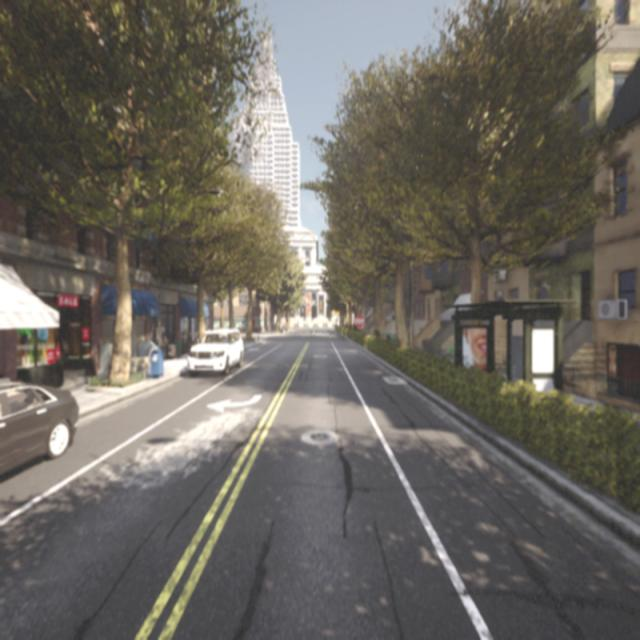stop sign: (355, 312, 367, 332)
